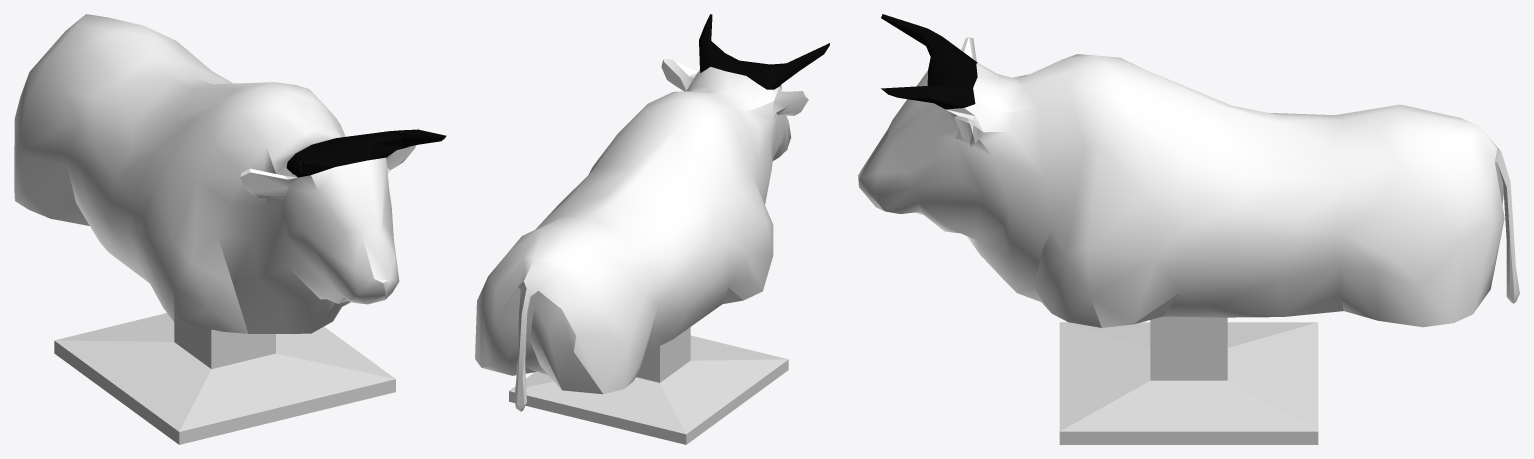
File: Bull.fbx
3 views of the same model, side by side, from view 1: azimuth 30°, elevation 25°; view 2: azimuth 150°, elevation 25°; view 3: azimuth 270°, elevation 25° (orthographic). The views are drawn at different scales.
Parts seen in each view (by area): view 1: Bull, Stand; view 2: Bull, Stand; view 3: Bull, Stand.
Boxes of the visible parts, x1,y1,x2,y2 form: Bull: (14, 14, 446, 333); Stand: (54, 313, 395, 444); Bull: (475, 14, 829, 411); Stand: (509, 327, 788, 444); Bull: (858, 14, 1519, 327); Stand: (1059, 316, 1318, 444).
Bounding box in the file's own units: 260 × 377 × 666.
1 material, 1 textured.
